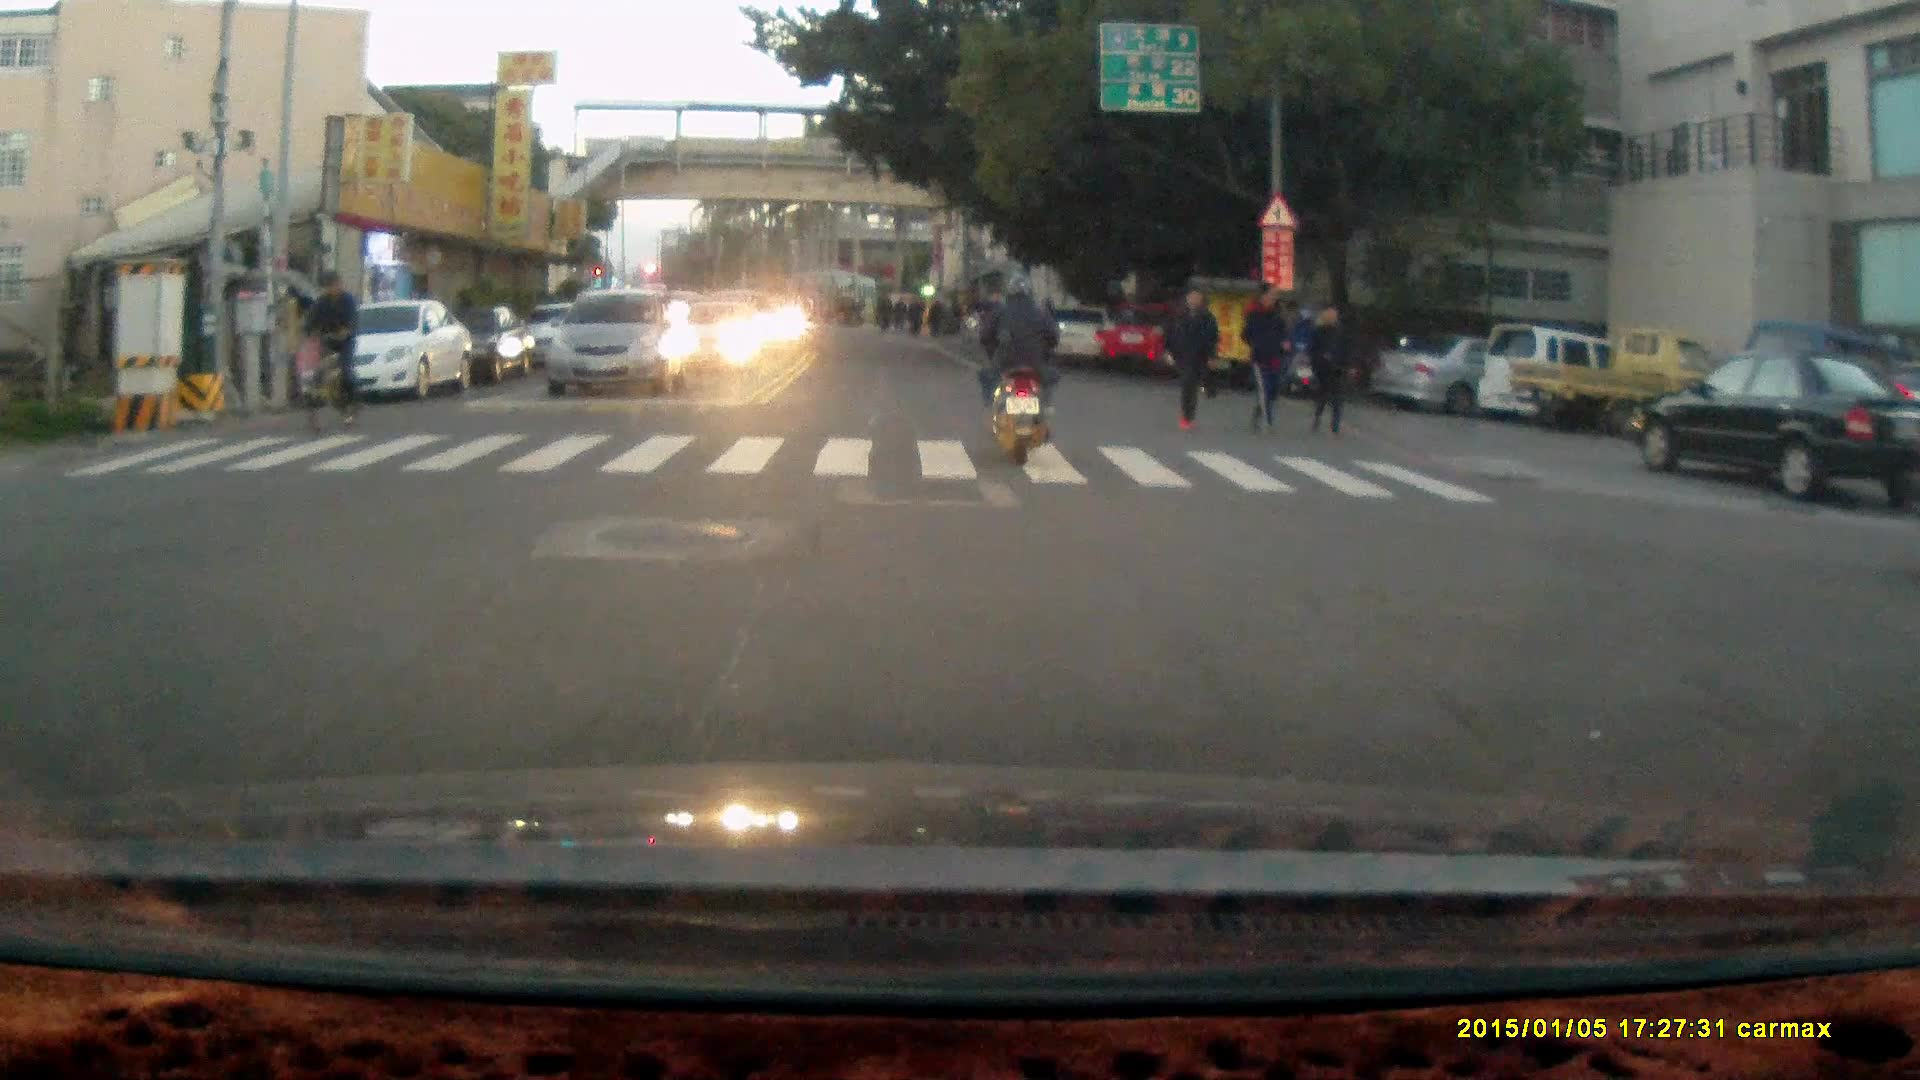pedestrian: (1162, 282, 1221, 433), (1240, 282, 1292, 442), (1304, 300, 1351, 439)
rider: (968, 271, 1060, 467), (291, 267, 364, 433), (1278, 309, 1323, 401)
vehicle: (1632, 349, 1916, 503), (1506, 326, 1733, 431), (297, 299, 477, 405), (538, 288, 692, 396), (1377, 331, 1571, 411), (419, 305, 543, 387), (1100, 304, 1214, 374)
